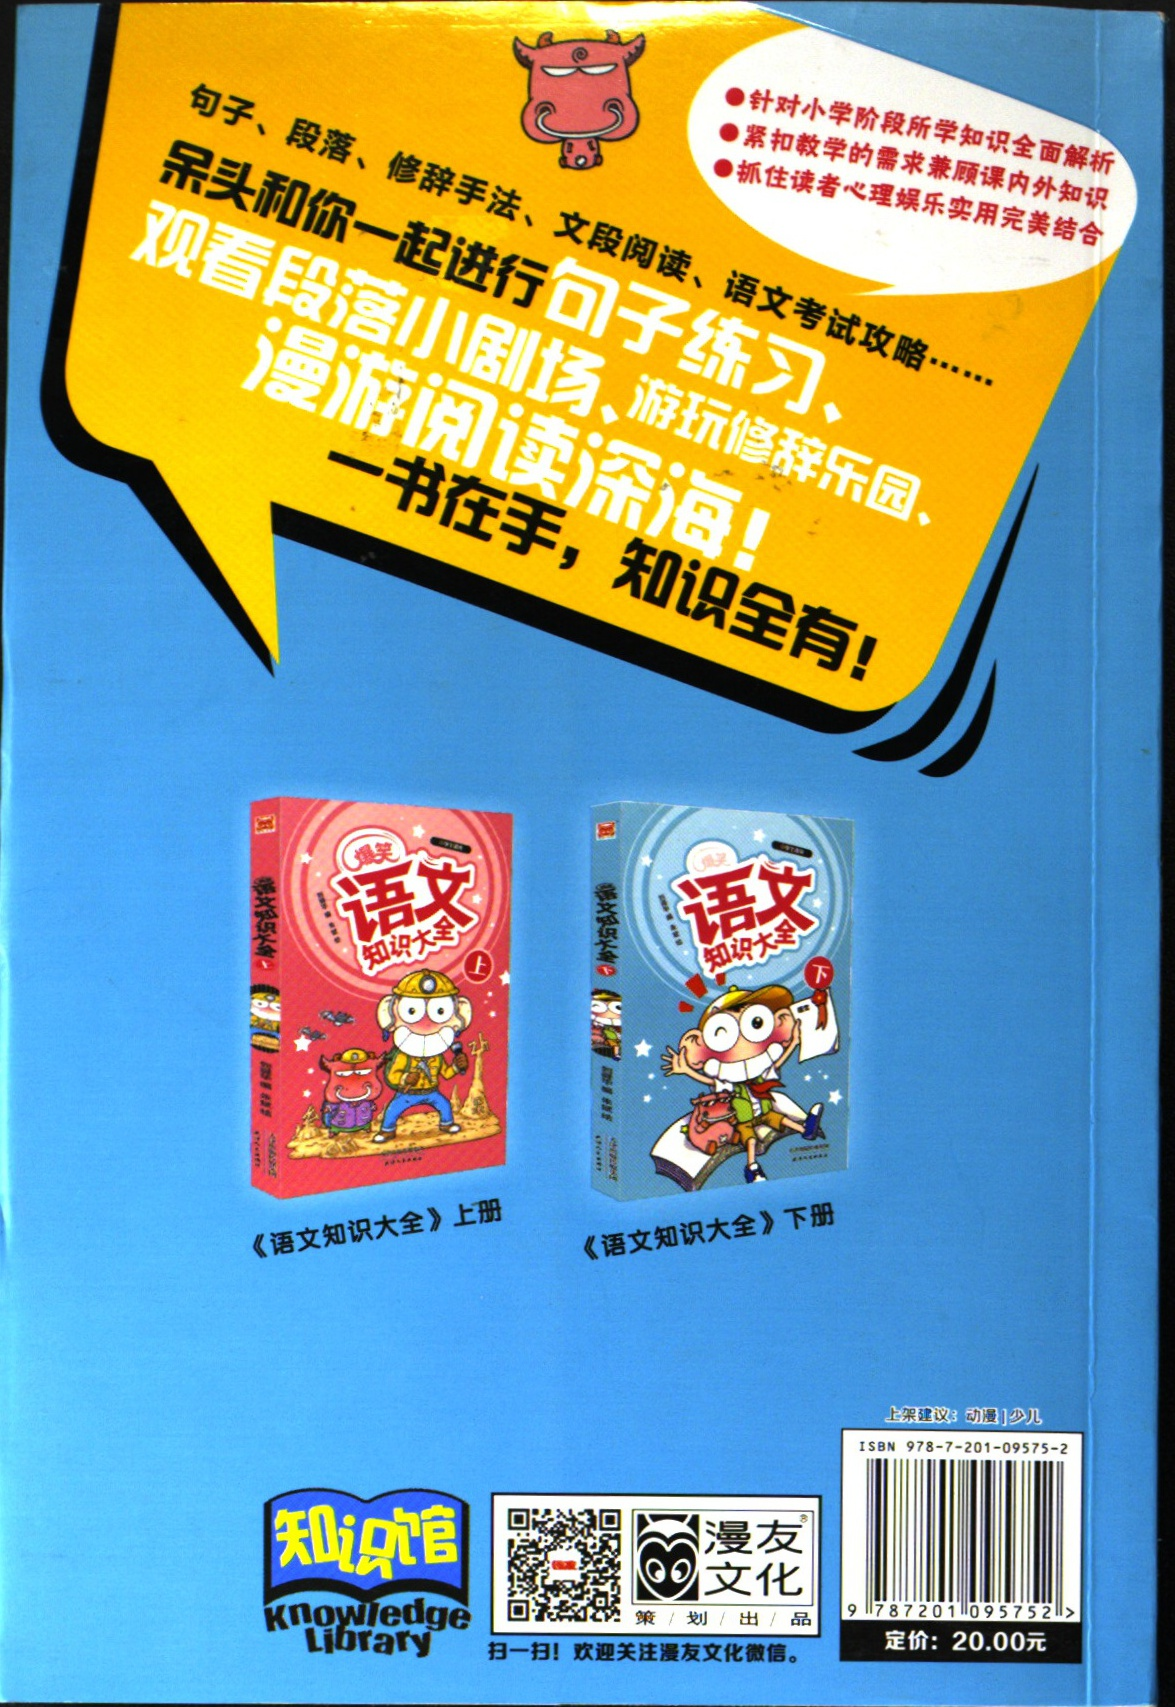barcode: (852, 1429, 1079, 1617)
